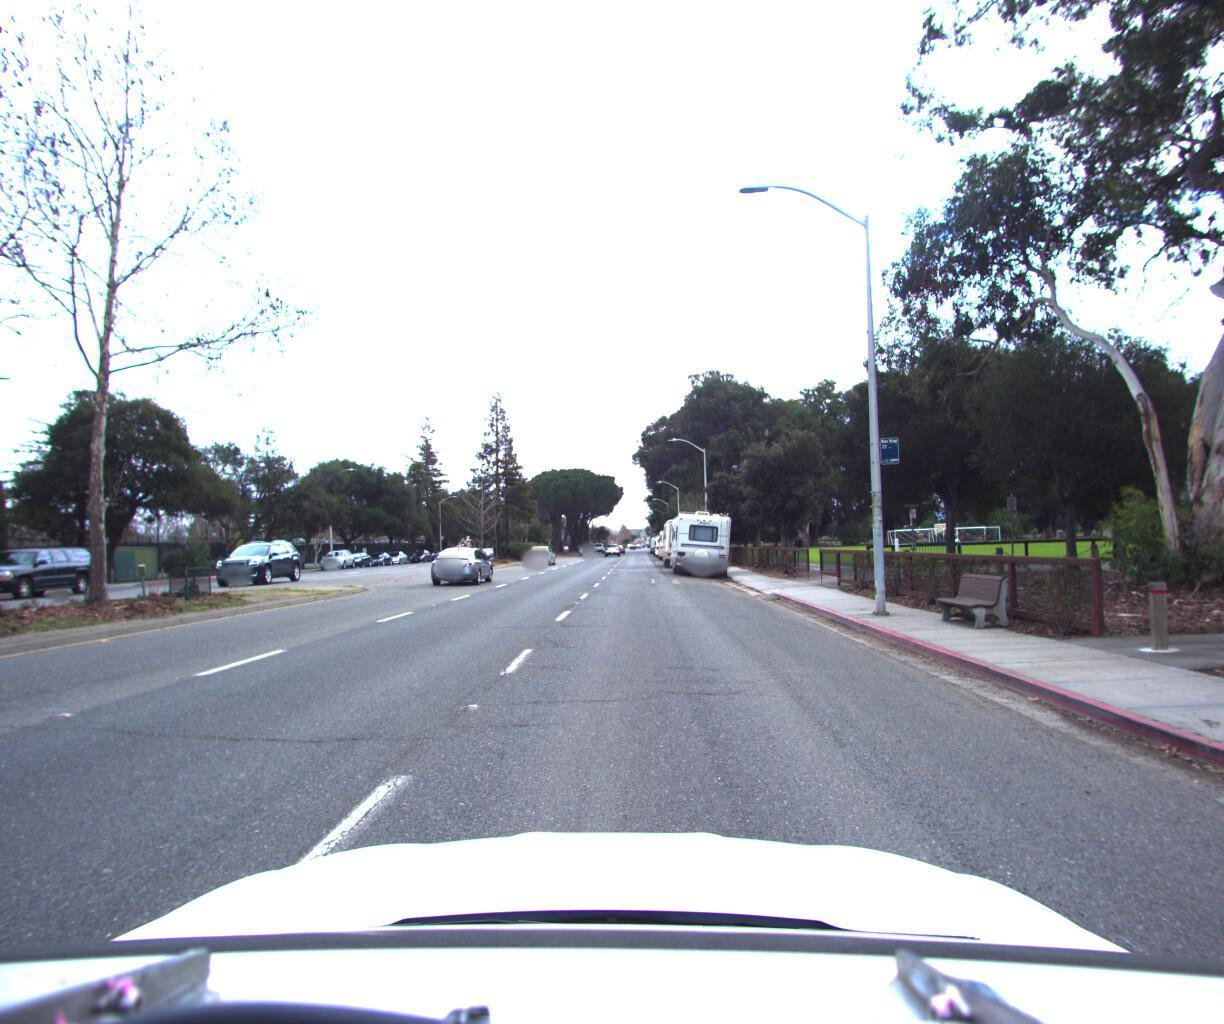car: (0, 542, 102, 601), (210, 533, 308, 584), (427, 540, 494, 580), (317, 543, 358, 566), (524, 538, 555, 559)
other_vehicle: (665, 503, 734, 571), (659, 507, 705, 563), (655, 521, 686, 554)
